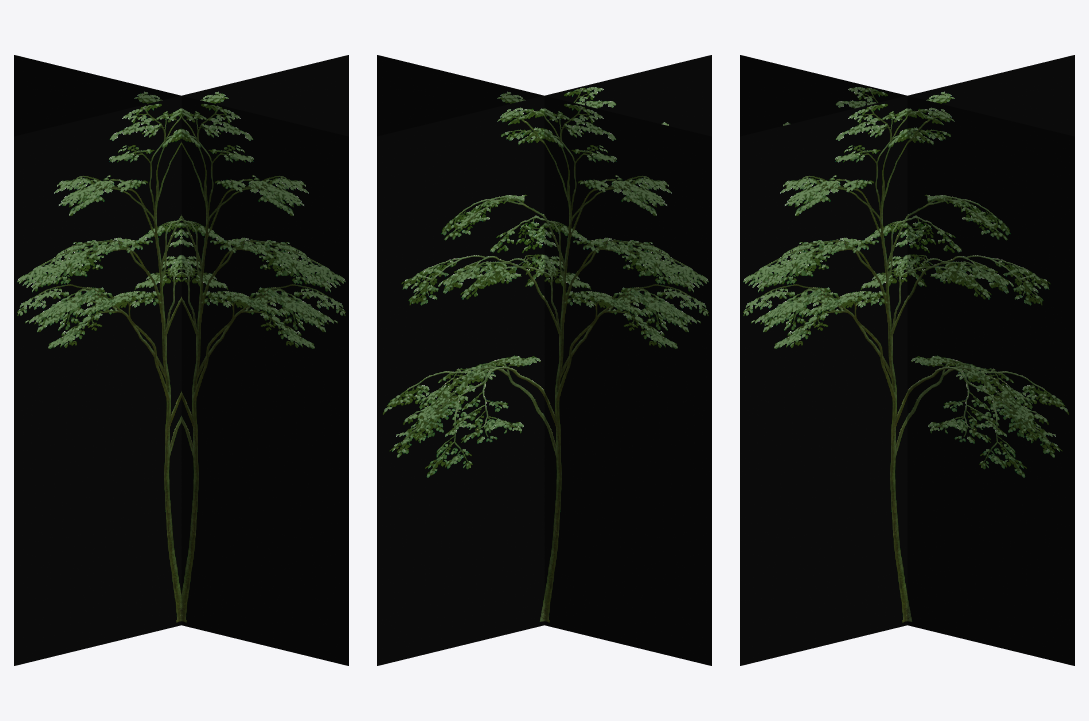
Rendered from bush_01_lod3.glb.
3 renders of one model, left to right at view 1: azimuth 30°, elevation 25°; view 2: azimuth 150°, elevation 25°; view 3: azimuth 270°, elevation 25°, orthographic.
Visible parts, largest first — view 1: AE_15TH_FOREST_BUSH_01_LOD3; view 2: AE_15TH_FOREST_BUSH_01_LOD3; view 3: AE_15TH_FOREST_BUSH_01_LOD3.
Part boxes in pixels (left/top/right/bottom): AE_15TH_FOREST_BUSH_01_LOD3: left=14, top=55, right=348, bottom=665; AE_15TH_FOREST_BUSH_01_LOD3: left=377, top=55, right=711, bottom=665; AE_15TH_FOREST_BUSH_01_LOD3: left=740, top=55, right=1074, bottom=665.
Size of the model in its own units: 1.7 by 2.57 by 1.47.
Materials: 1 (1 with a texture image).
